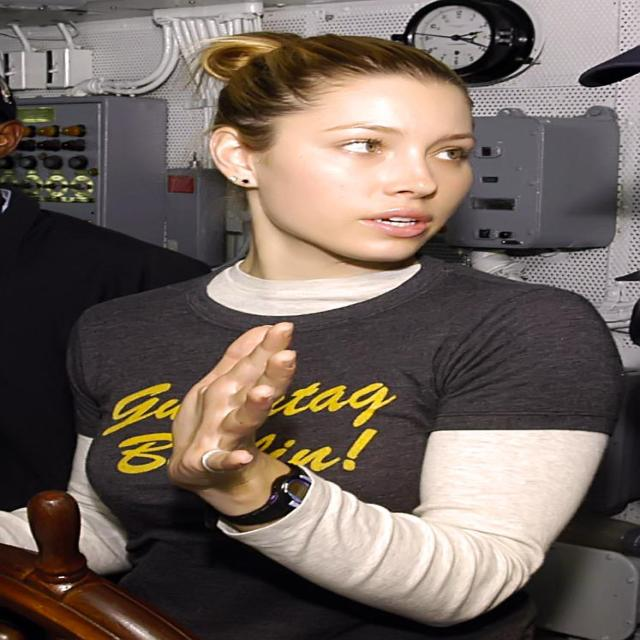no-earmuff: (194, 113, 280, 200)
